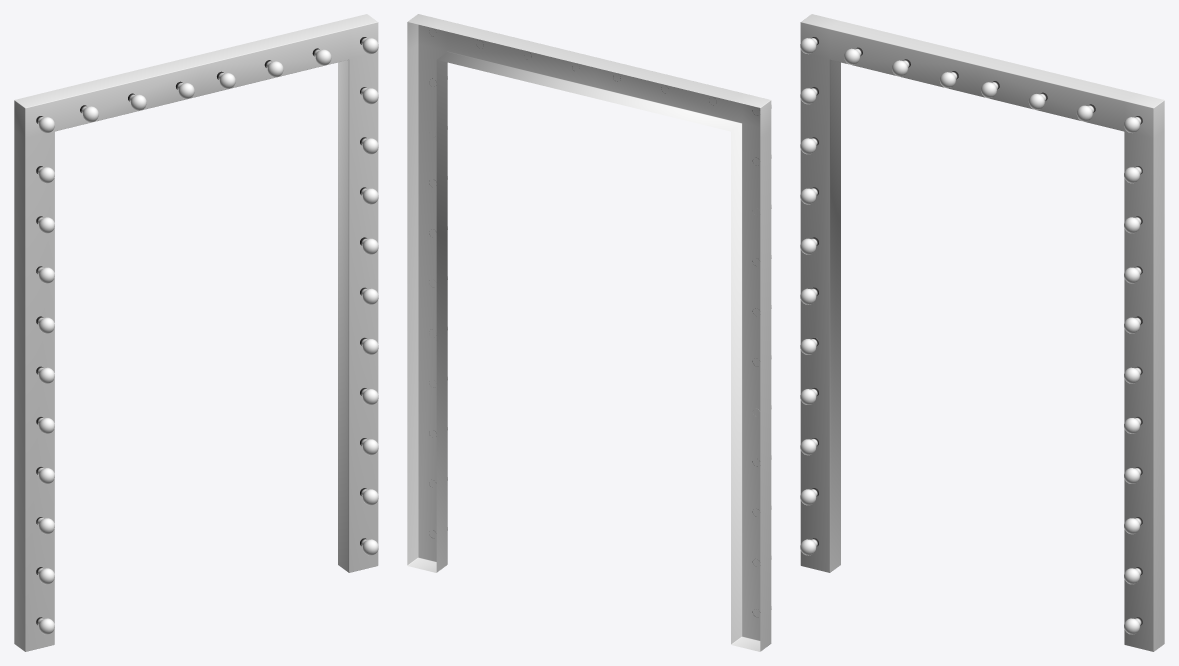
File: DoorFrameLight04_2.FBX
3 views of the same model, side by side, from view 1: azimuth 30°, elevation 25°; view 2: azimuth 150°, elevation 25°; view 3: azimuth 330°, elevation 25° (orthographic).
Parts seen in each view (by area): view 1: Light04_2; view 2: Light04_2; view 3: Light04_2.
Part boxes in pixels (<box>): Light04_2: <box>14,14,378,651</box>; Light04_2: <box>407,14,771,651</box>; Light04_2: <box>800,14,1164,651</box>.
Bounding box in the file's own units: 180 × 265 × 19.54.
